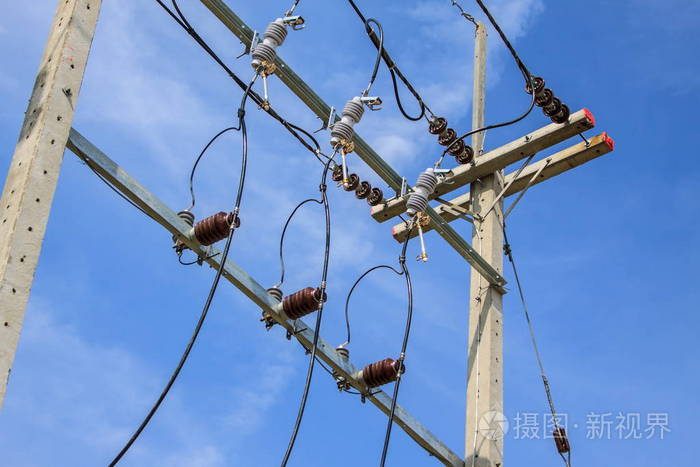insulator: (429, 115, 479, 164), (332, 164, 383, 205), (525, 76, 570, 122)
